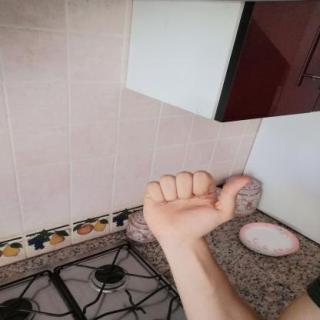DAD: (133, 164, 259, 248)
